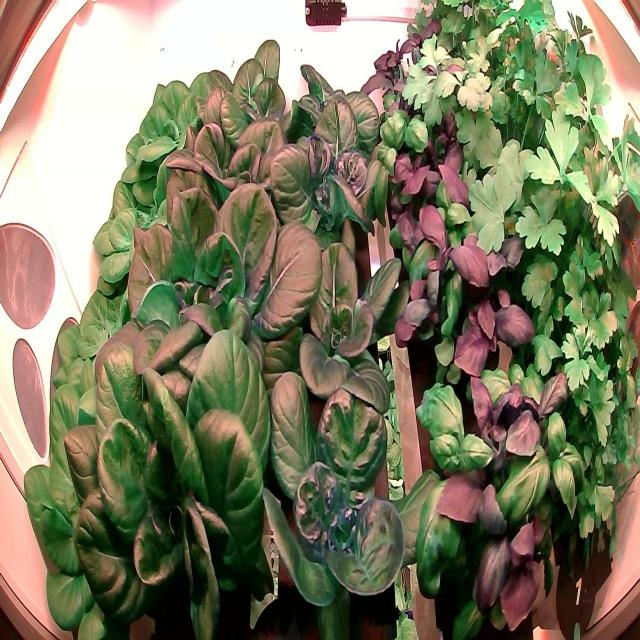Ready: (59, 290, 298, 636), (105, 165, 325, 441), (20, 380, 166, 640), (48, 248, 180, 467), (157, 88, 304, 277), (115, 62, 248, 230), (90, 147, 214, 317), (192, 29, 306, 188)
young: (234, 356, 411, 624), (248, 200, 412, 427), (262, 94, 401, 252), (276, 42, 399, 156)
